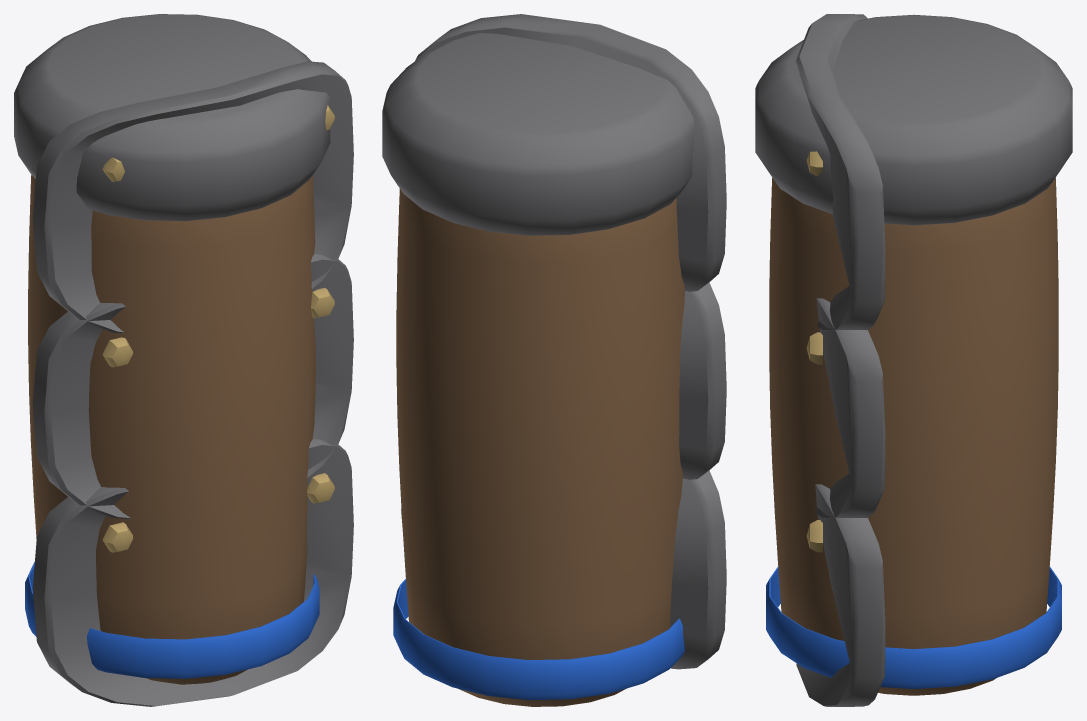
File: Kit_Limb_Plate_S.glb
3 renders of one model, left to right at view 1: azimuth 30°, elevation 25°; view 2: azimuth 150°, elevation 25°; view 3: azimuth 270°, elevation 25°, orthographic.
Visible parts, largest first — view 1: Kit_Limb_Plate_S; view 2: Kit_Limb_Plate_S; view 3: Kit_Limb_Plate_S.
Boxes of the visible parts, box(x1,y1,x2,y2) form: Kit_Limb_Plate_S: box(14, 14, 353, 706); Kit_Limb_Plate_S: box(382, 14, 726, 706); Kit_Limb_Plate_S: box(755, 14, 1072, 706).
Bounding box in the file's own units: 0.1334 × 0.2475 × 0.1171.
